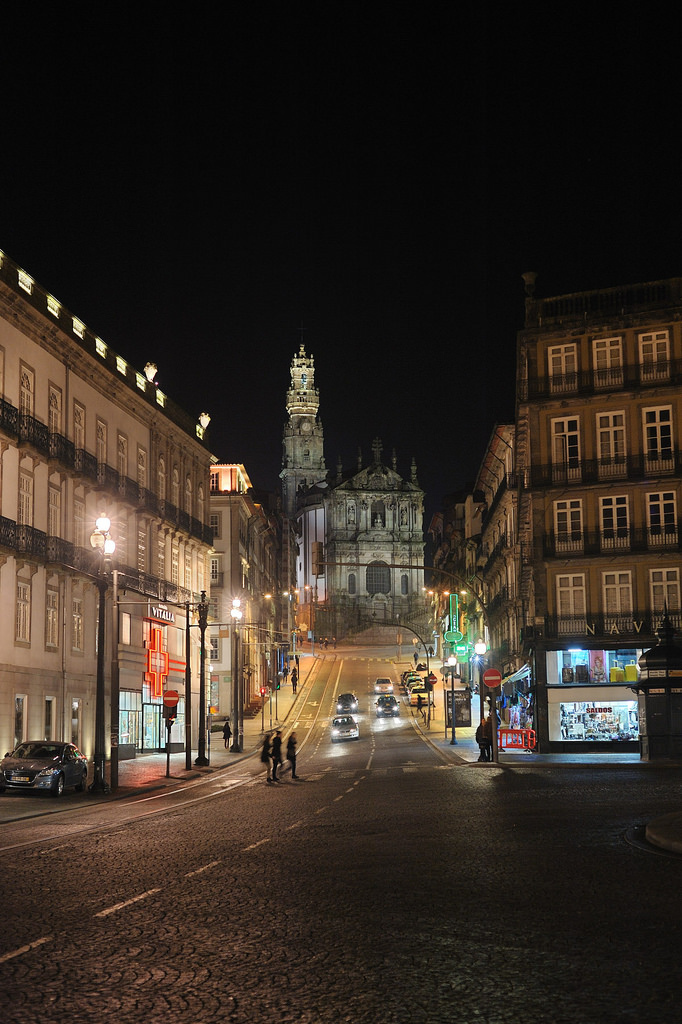clerigos: (277, 344, 333, 522)
